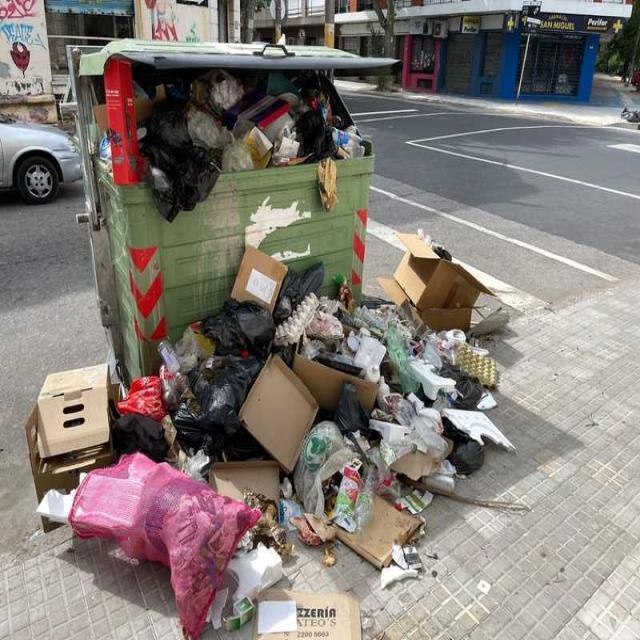high trash: (26, 235, 520, 640)
